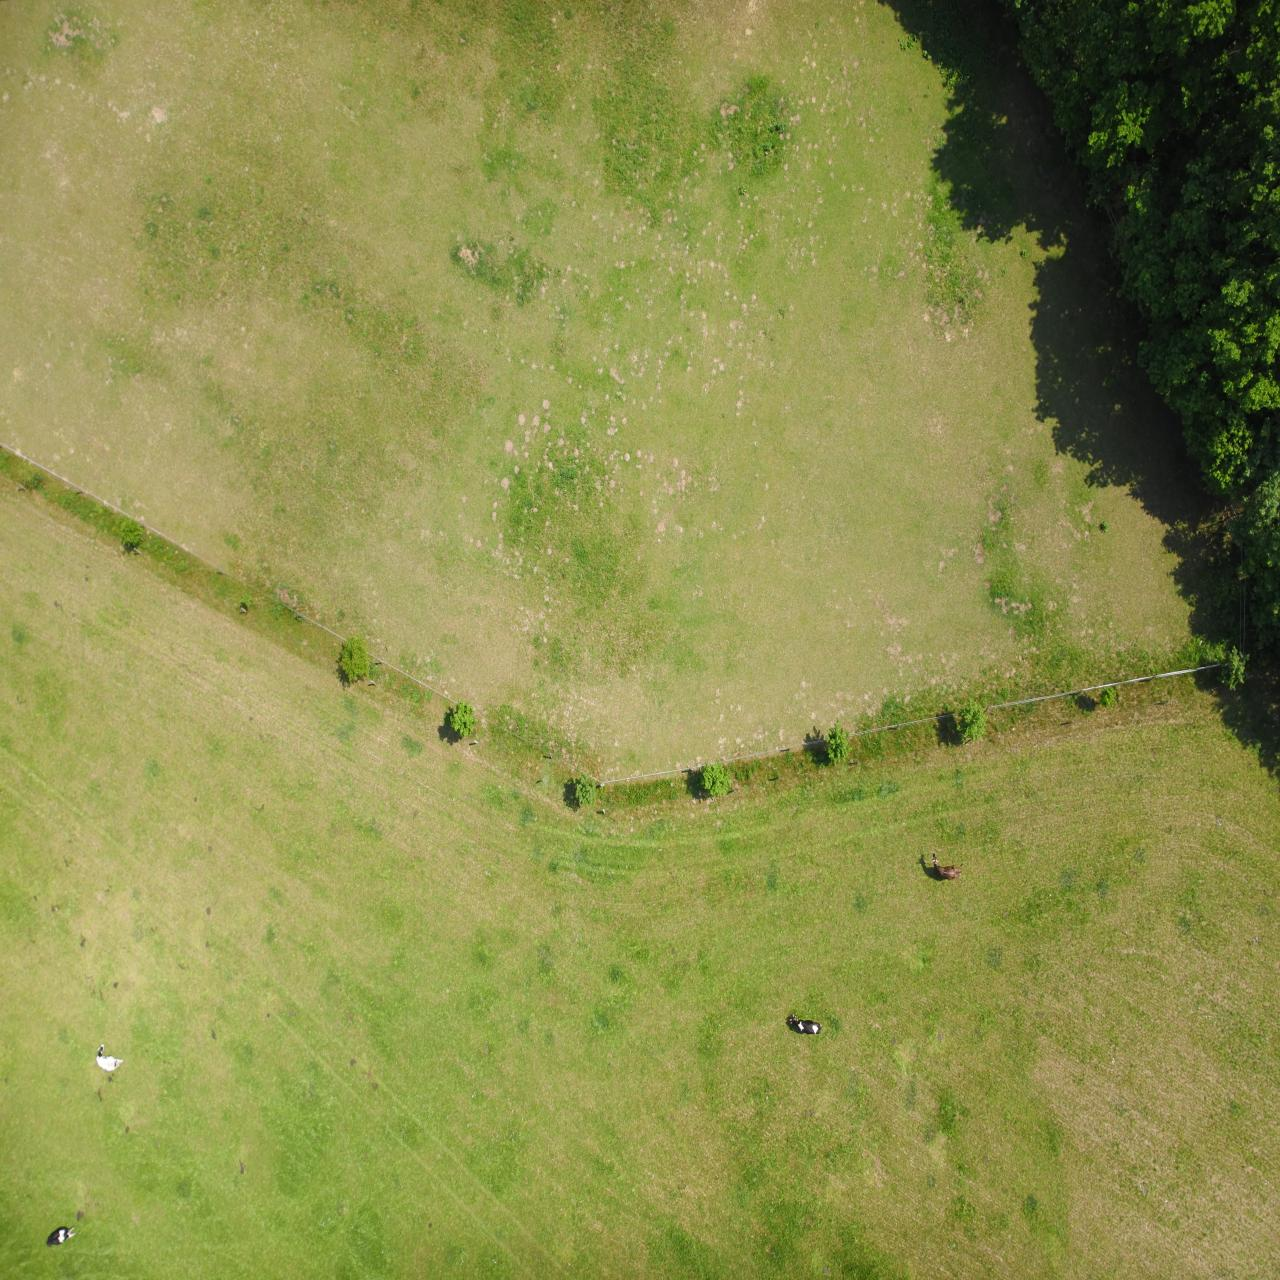cow: (316, 400, 349, 428), (1157, 207, 1184, 236), (458, 245, 491, 267), (1205, 33, 1233, 54)
